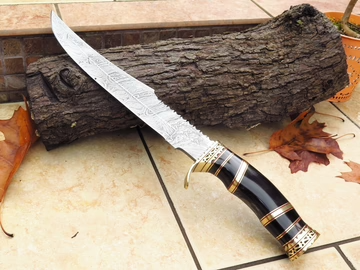knife: (49, 7, 322, 266)
